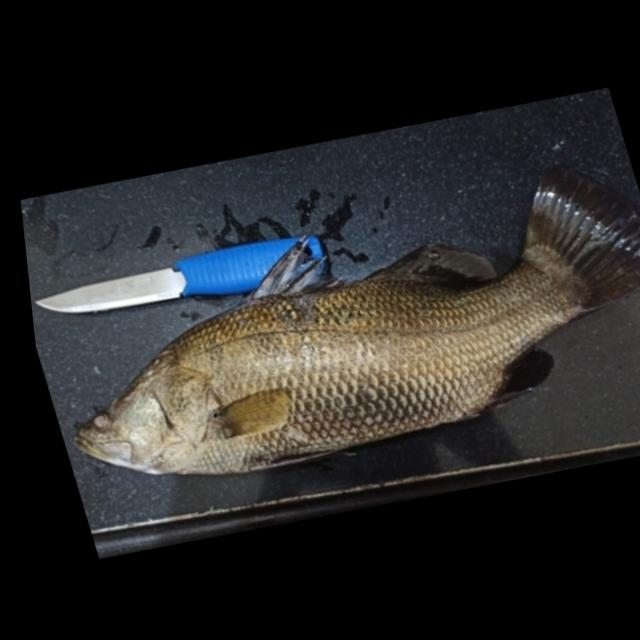Seabass: (15, 144, 640, 504)
